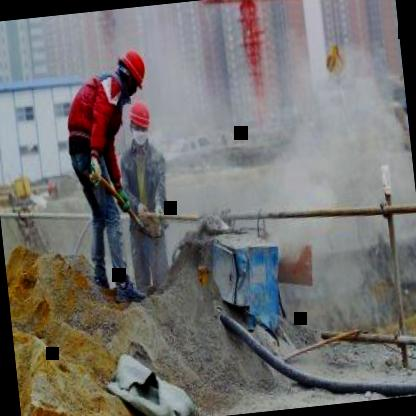helmet: (114, 44, 150, 96), (122, 100, 157, 152)
